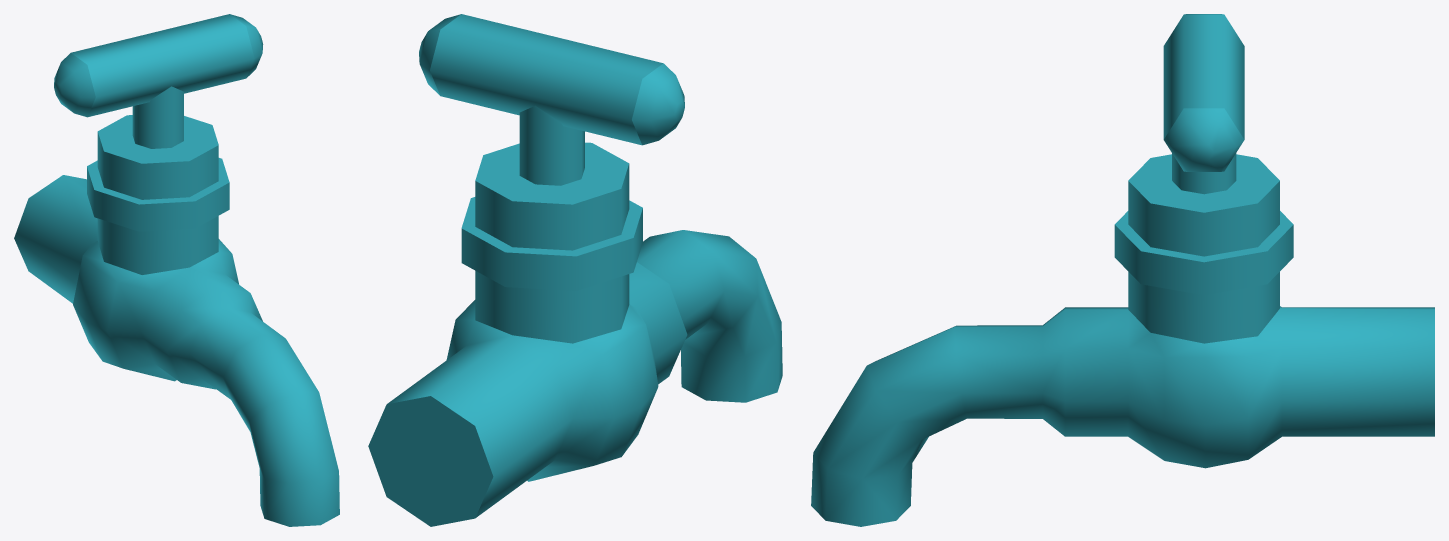
Rendered from Faucet_A_Snaps004.FBX.
3 views of the same model, side by side, from view 1: azimuth 30°, elevation 25°; view 2: azimuth 150°, elevation 25°; view 3: azimuth 270°, elevation 25° (orthographic). The views are drawn at different scales.
Parts seen in each view (by area): view 1: Geometry_Faucet_A_LOD00; view 2: Geometry_Faucet_A_LOD00; view 3: Geometry_Faucet_A_LOD00.
Boxes of the visible parts, x1,y1,x2,y2 form: Geometry_Faucet_A_LOD00: (14, 14, 339, 526); Geometry_Faucet_A_LOD00: (368, 14, 782, 526); Geometry_Faucet_A_LOD00: (811, 14, 1434, 526).
Size of what is drawn, in the model's own units: 7.21 by 12.58 by 15.99.
